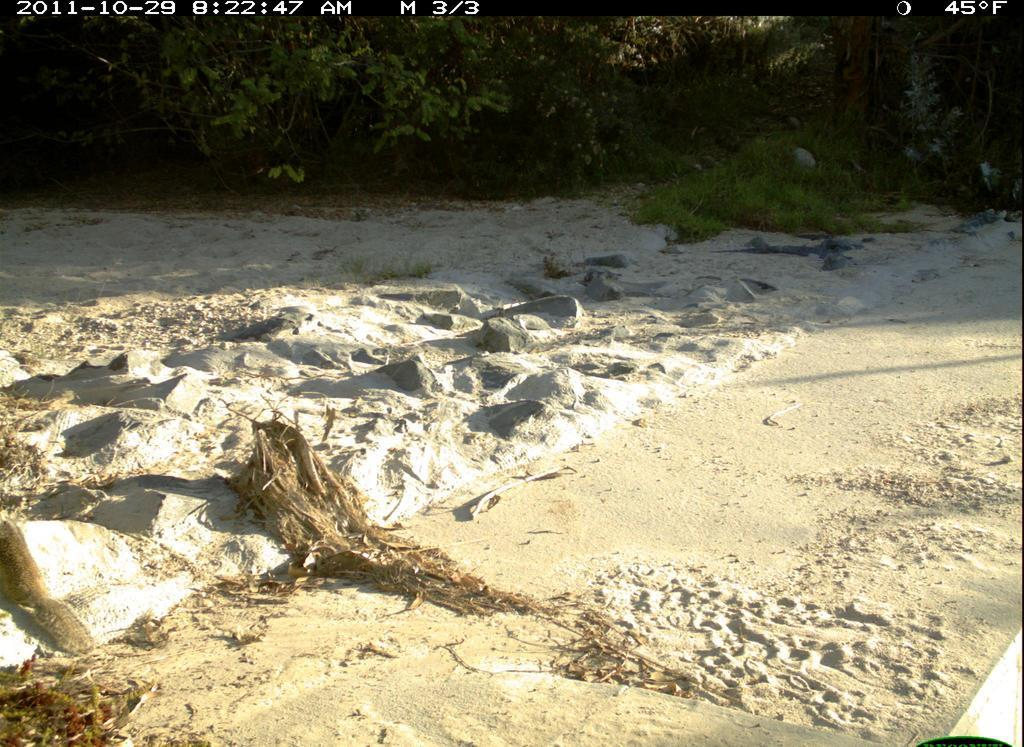squirrel: (1, 513, 121, 676)
